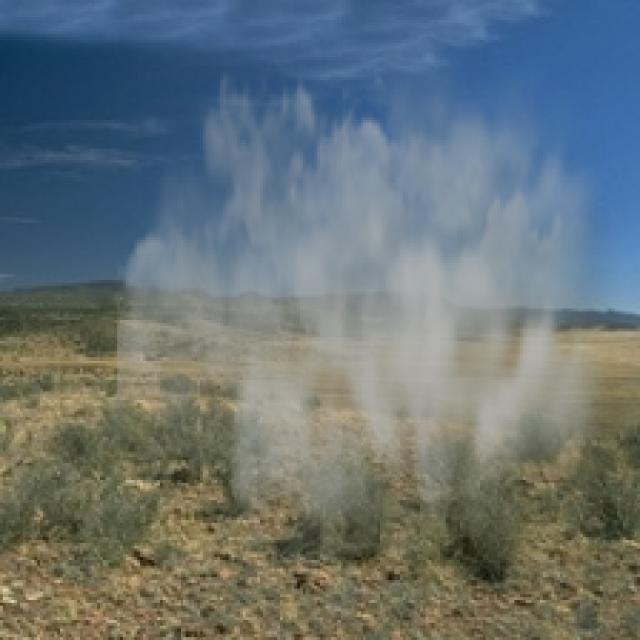Smoke: (117, 20, 637, 569)
